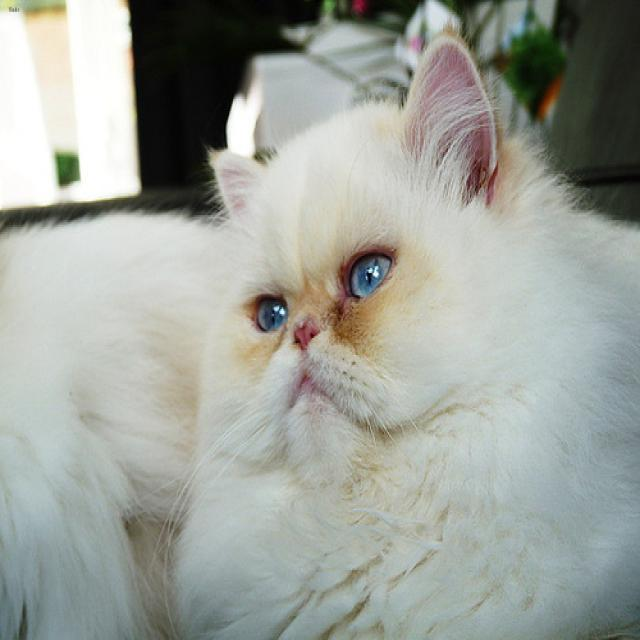Persian: (206, 26, 501, 481)
